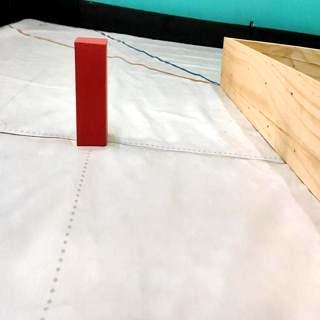redbox: (74, 34, 108, 146)
